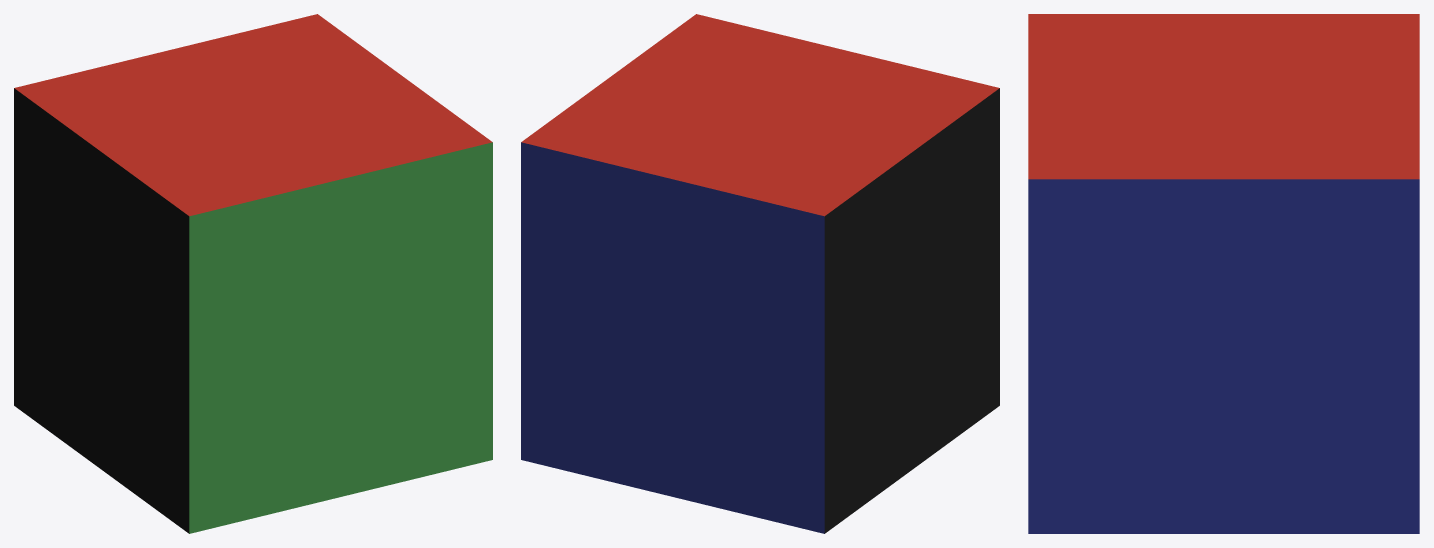
3 renders of one model, left to right at view 1: azimuth 30°, elevation 25°; view 2: azimuth 150°, elevation 25°; view 3: azimuth 270°, elevation 25°, orthographic. The views are drawn at different scales.
Visible parts, largest first — view 1: Body2; view 2: Body2; view 3: Body2.
Part boxes in pixels (<box>): Body2: <box>14,14,492,533</box>; Body2: <box>521,14,999,533</box>; Body2: <box>1028,14,1419,533</box>.
Bounding box in the file's own units: 1 × 1 × 1.
